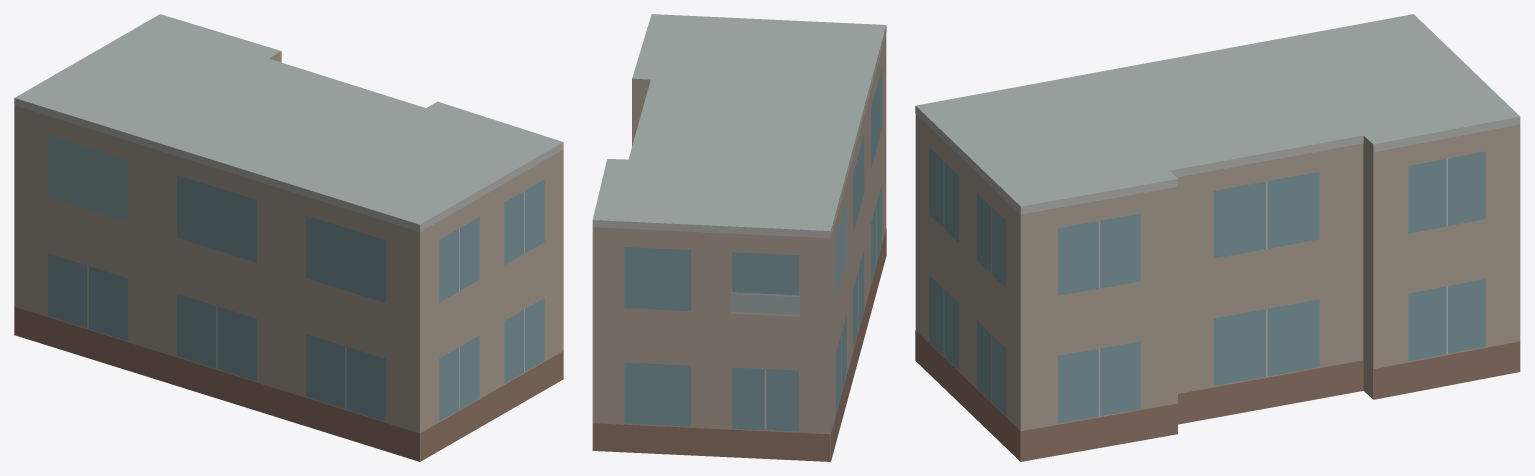
The model's file is survey-upis-32938871.glb.
3 renders of one model, left to right at view 1: azimuth 30°, elevation 25°; view 2: azimuth 150°, elevation 25°; view 3: azimuth 270°, elevation 25°, orthographic. The views are drawn at different scales.
Visible parts, largest first — view 1: survey-upis-32938871.tmp; view 2: survey-upis-32938871.tmp; view 3: survey-upis-32938871.tmp.
Boxes of the visible parts, <box> form: survey-upis-32938871.tmp: <box>14,14,563,461</box>; survey-upis-32938871.tmp: <box>592,14,886,461</box>; survey-upis-32938871.tmp: <box>915,14,1520,461</box>.
Bounding box in the file's own units: 12.79 × 7.9 × 16.97.
